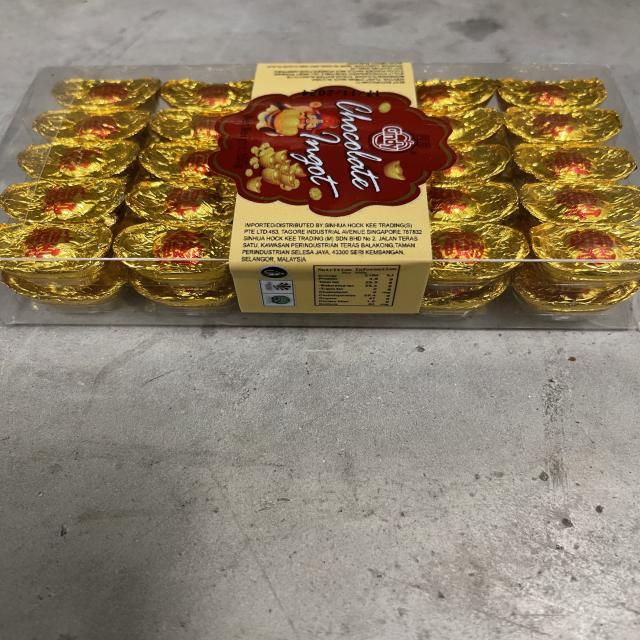object_name: (0, 61, 640, 339)
